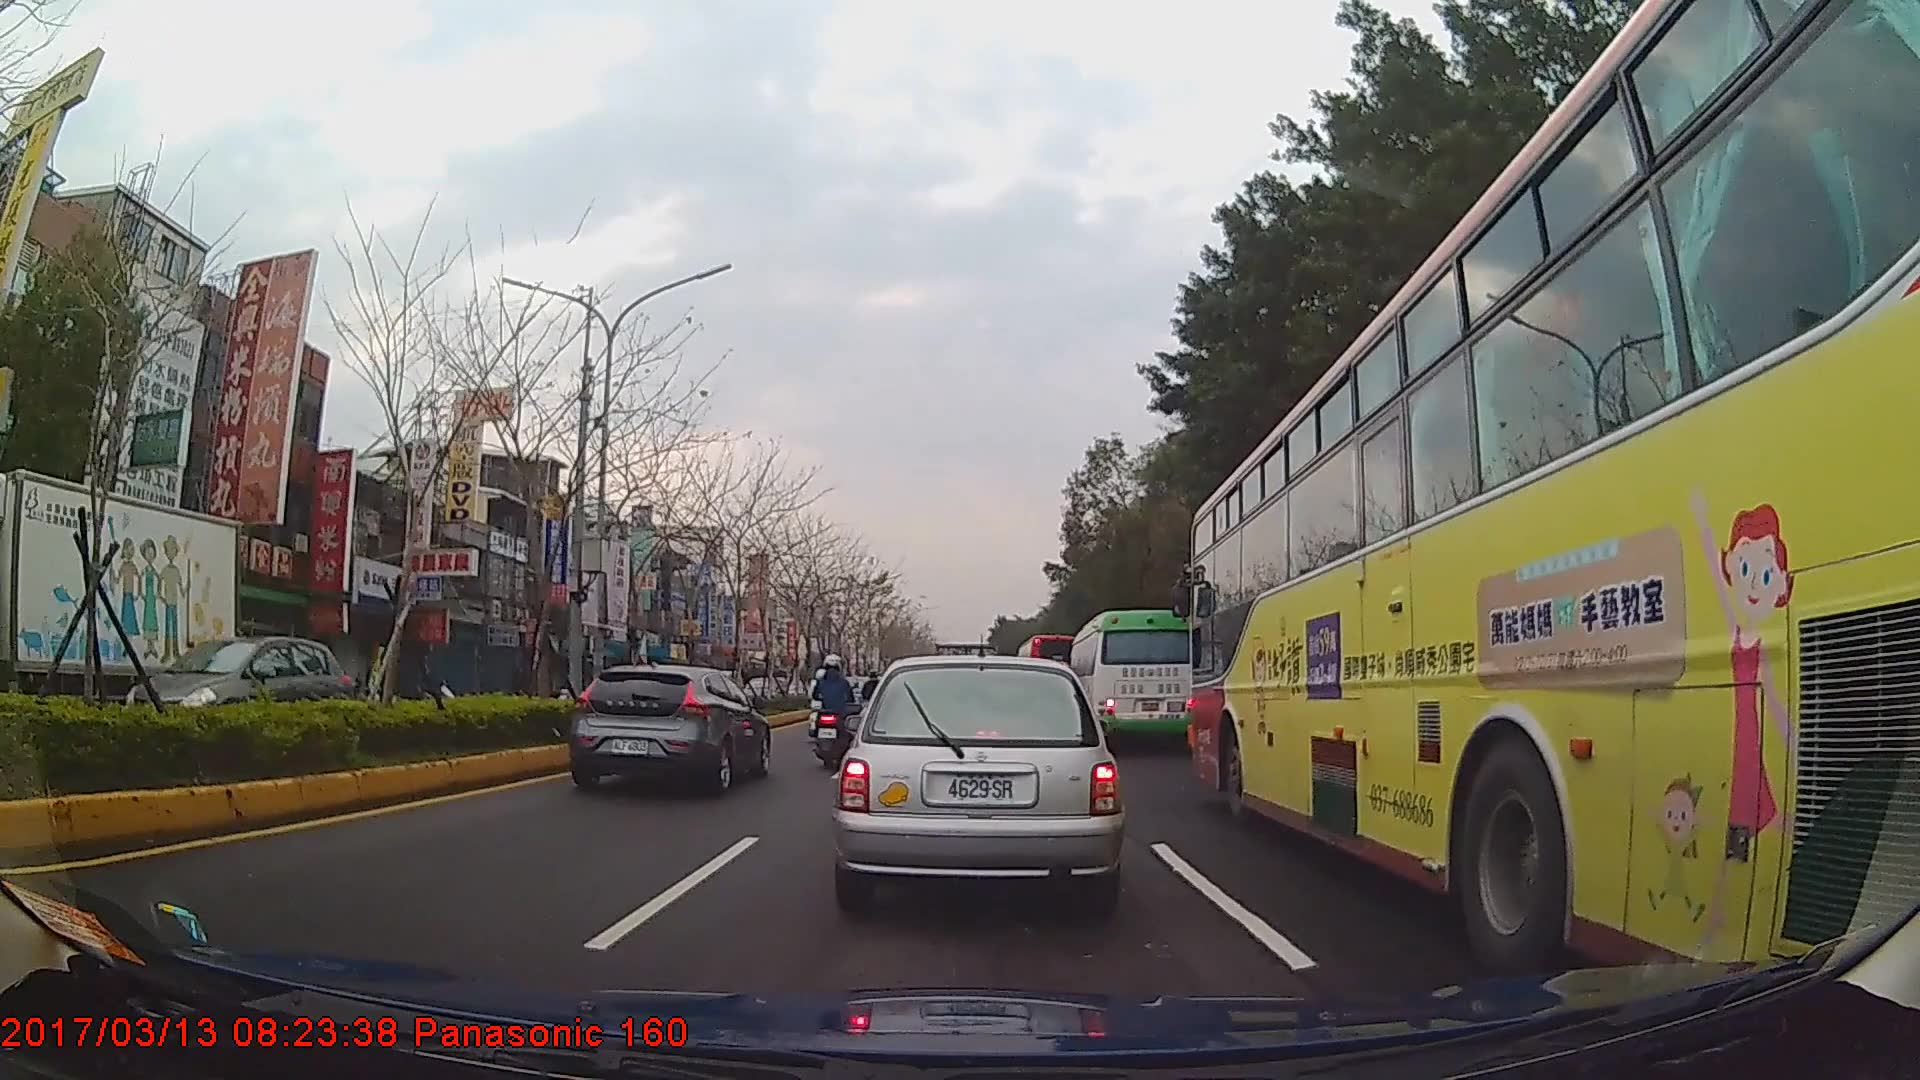rider: (812, 654, 859, 756)
vehicle: (1185, 0, 1920, 1028), (833, 650, 1122, 917), (0, 470, 240, 740), (568, 660, 774, 795), (120, 633, 344, 748), (1066, 607, 1197, 749), (1014, 632, 1083, 707)
